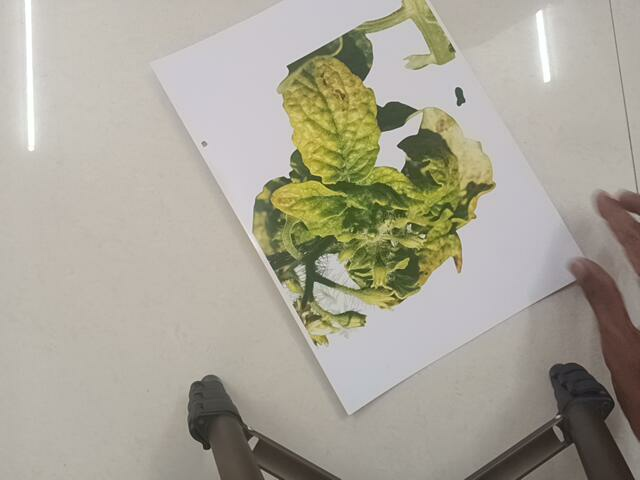Tomamto_Leaf_curl_virus: (265, 36, 478, 320)
